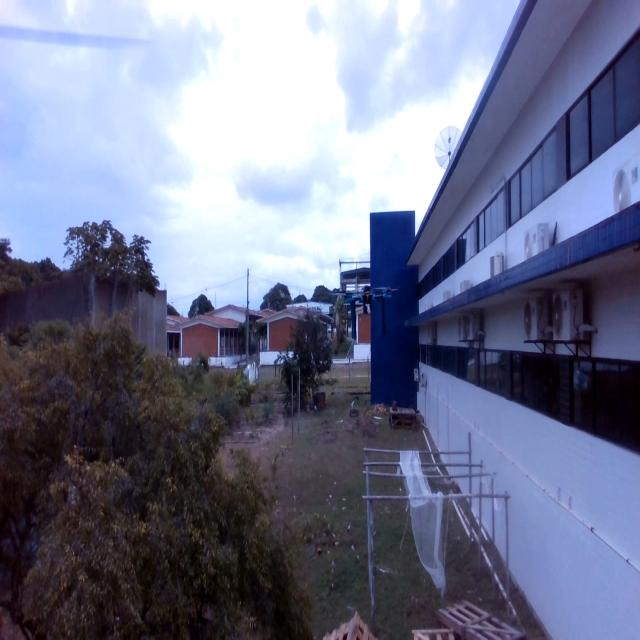-uav-: (338, 286, 397, 341)
